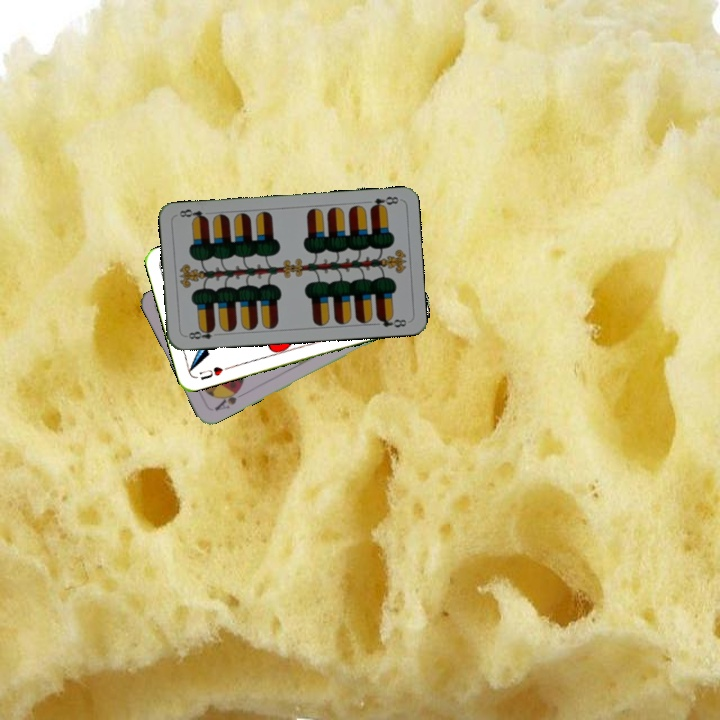E8: (182, 324, 222, 342), (366, 192, 401, 212)
HU: (195, 362, 232, 383)
SA: (210, 384, 244, 413)
